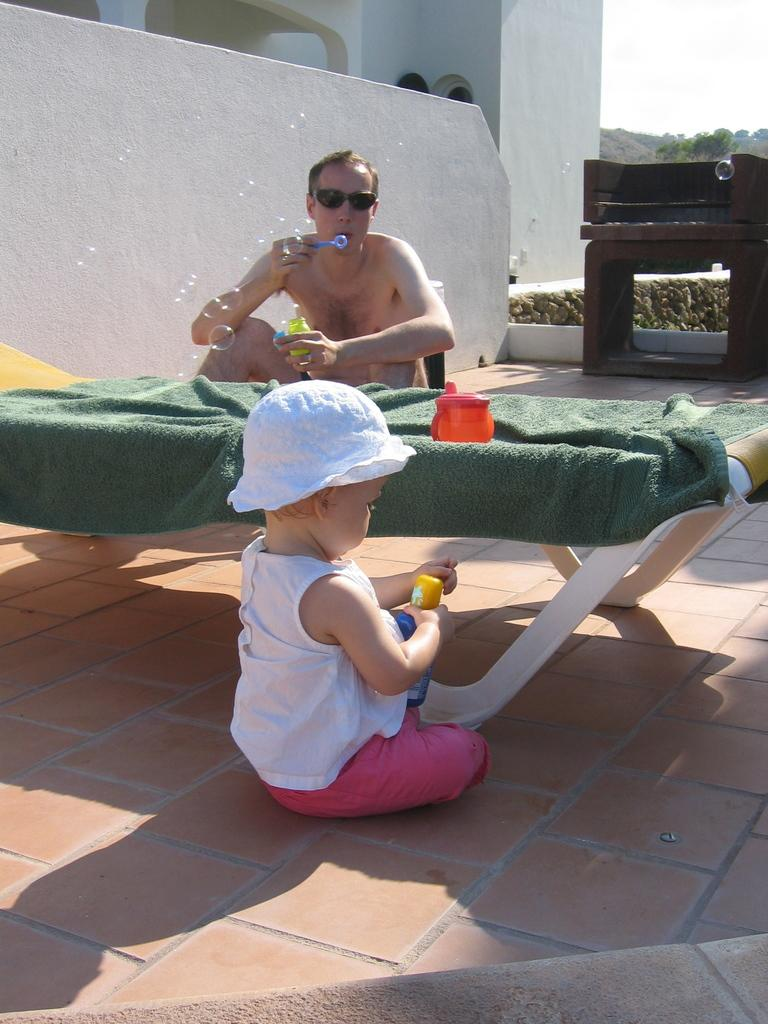Hat: (228, 378, 414, 518)
